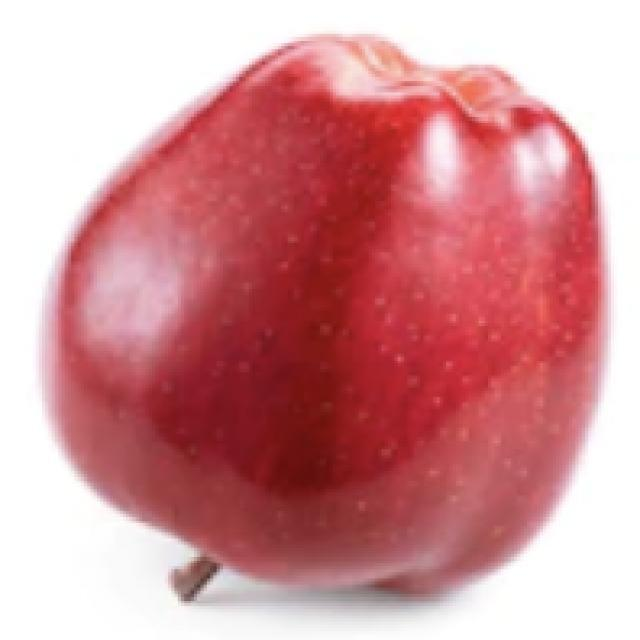Fresh Apple: (38, 40, 600, 602)
